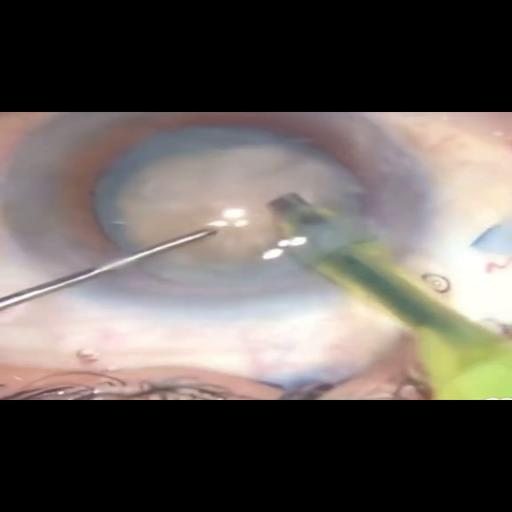catarata: (92, 119, 354, 284)
cornea: (60, 92, 436, 319)
pupil: (63, 109, 387, 289)
